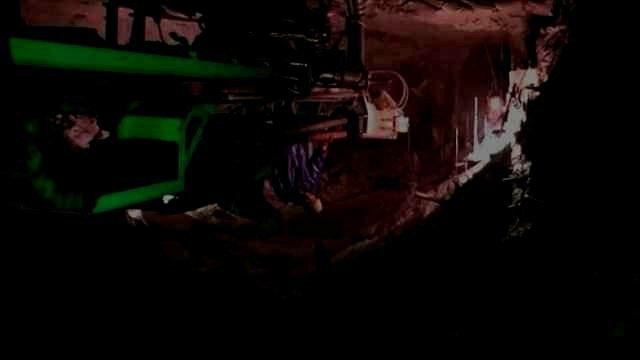helmet: (300, 192, 322, 216)
